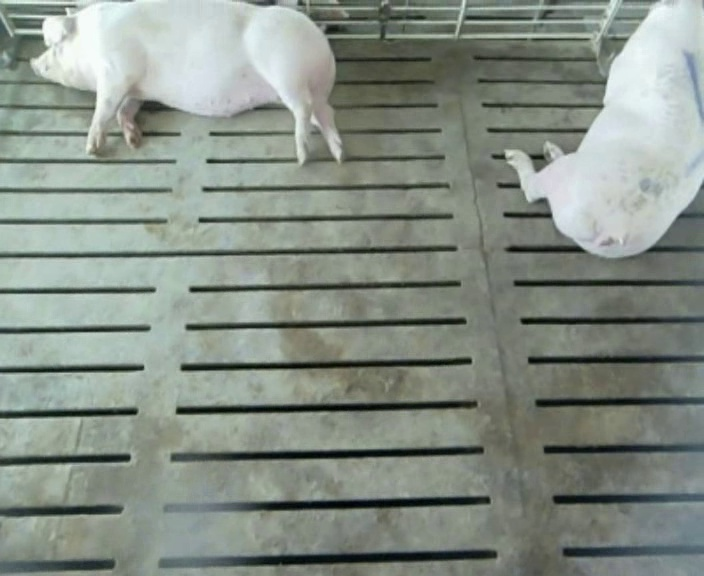pig: (505, 2, 703, 256), (31, 2, 341, 163)
